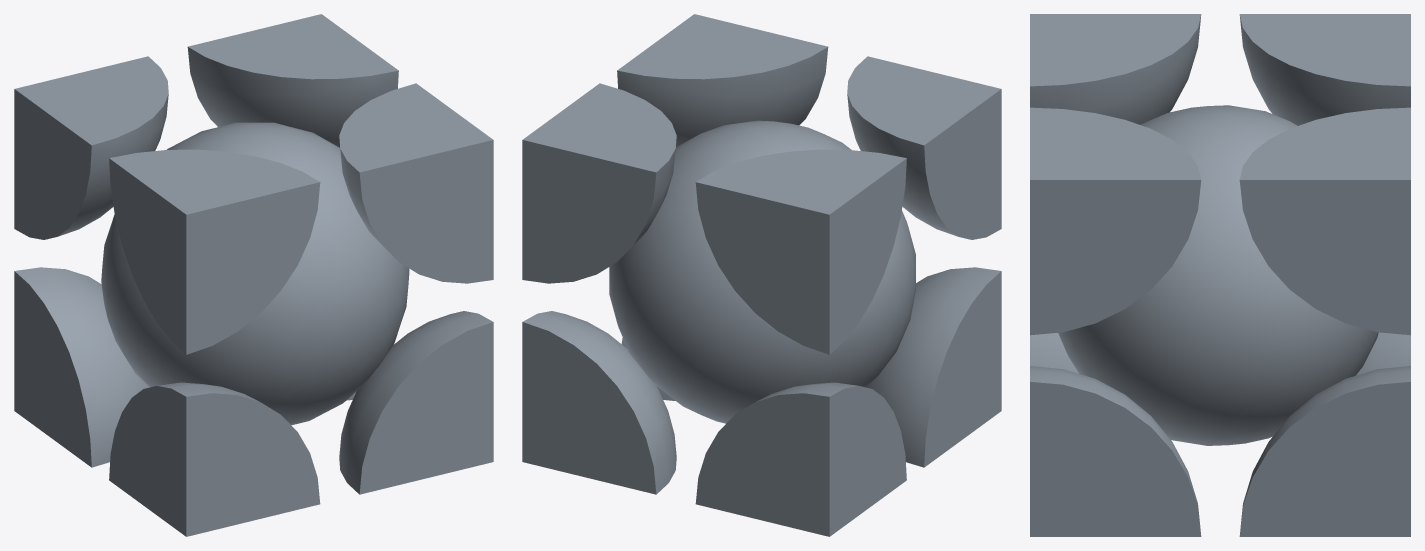
3 views of the same model, side by side, from view 1: azimuth 30°, elevation 25°; view 2: azimuth 150°, elevation 25°; view 3: azimuth 270°, elevation 25° (orthographic). The views are drawn at different scales.
Visible parts, largest first — view 1: GeoSphere614; view 2: GeoSphere614; view 3: GeoSphere614.
Part boxes in pixels (x1,y1,x2,y2): GeoSphere614: [14, 14, 493, 536]; GeoSphere614: [522, 14, 1001, 536]; GeoSphere614: [1030, 14, 1410, 536].
Size of the model in its own units: 45.87 by 45.99 by 44.47.
Materials: 1 (1 with a texture image).
